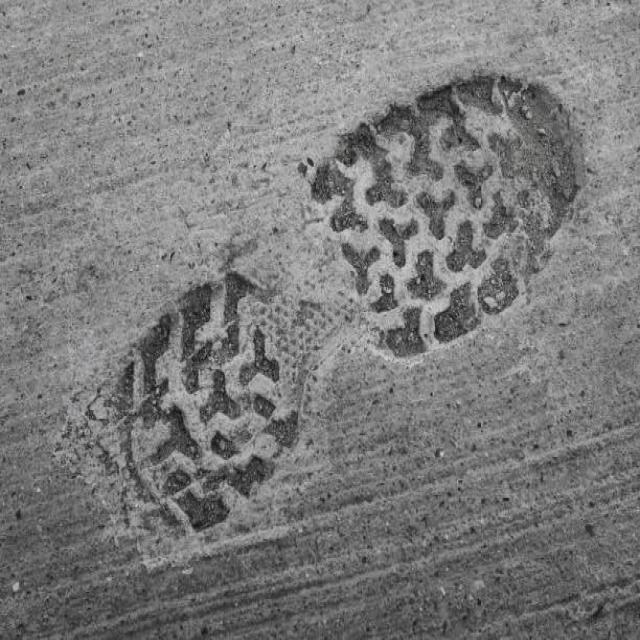human_foot_print: (40, 19, 603, 581)
